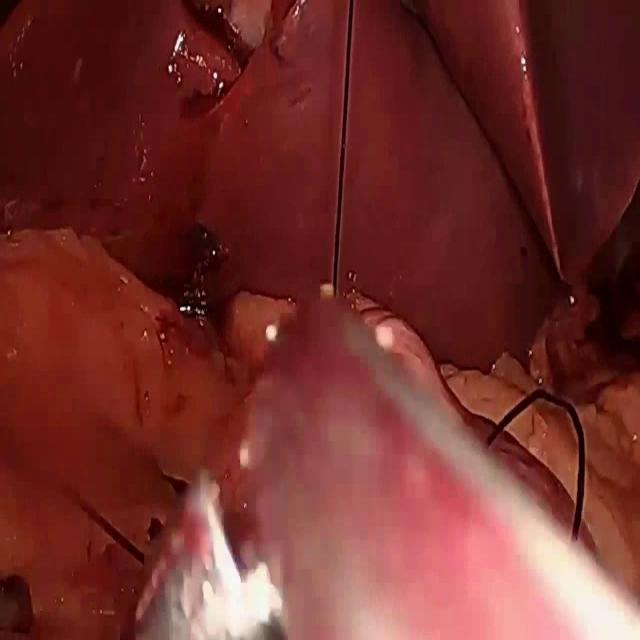surgical-area: (0, 0, 640, 639)
surgical-tool: (133, 298, 640, 639)
